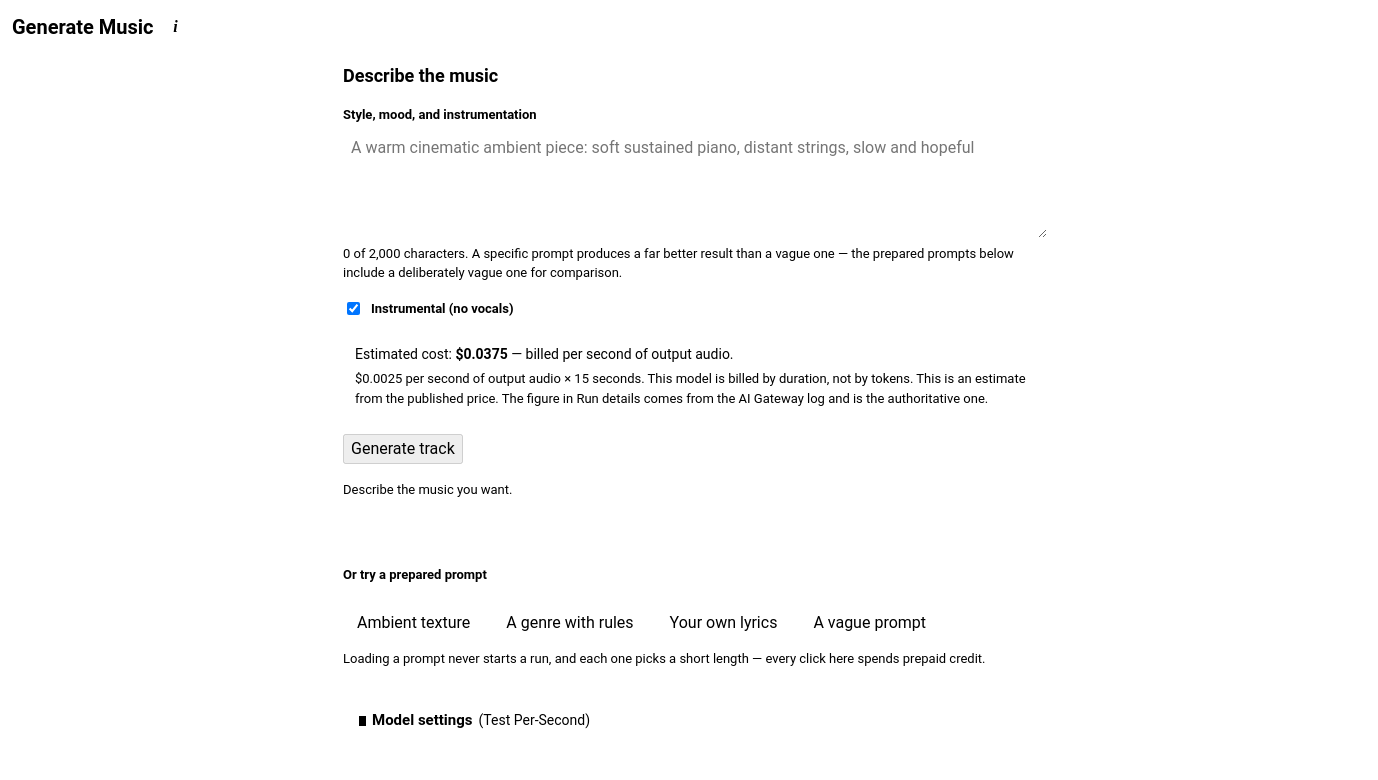
submitting the panel › renders the track, the applied settings, and the expiry note after a run
Step 1. Replace the text in the text box with id "music-prompt" with "ambient piano" → x=695, y=184, box [343,130,1047,238]
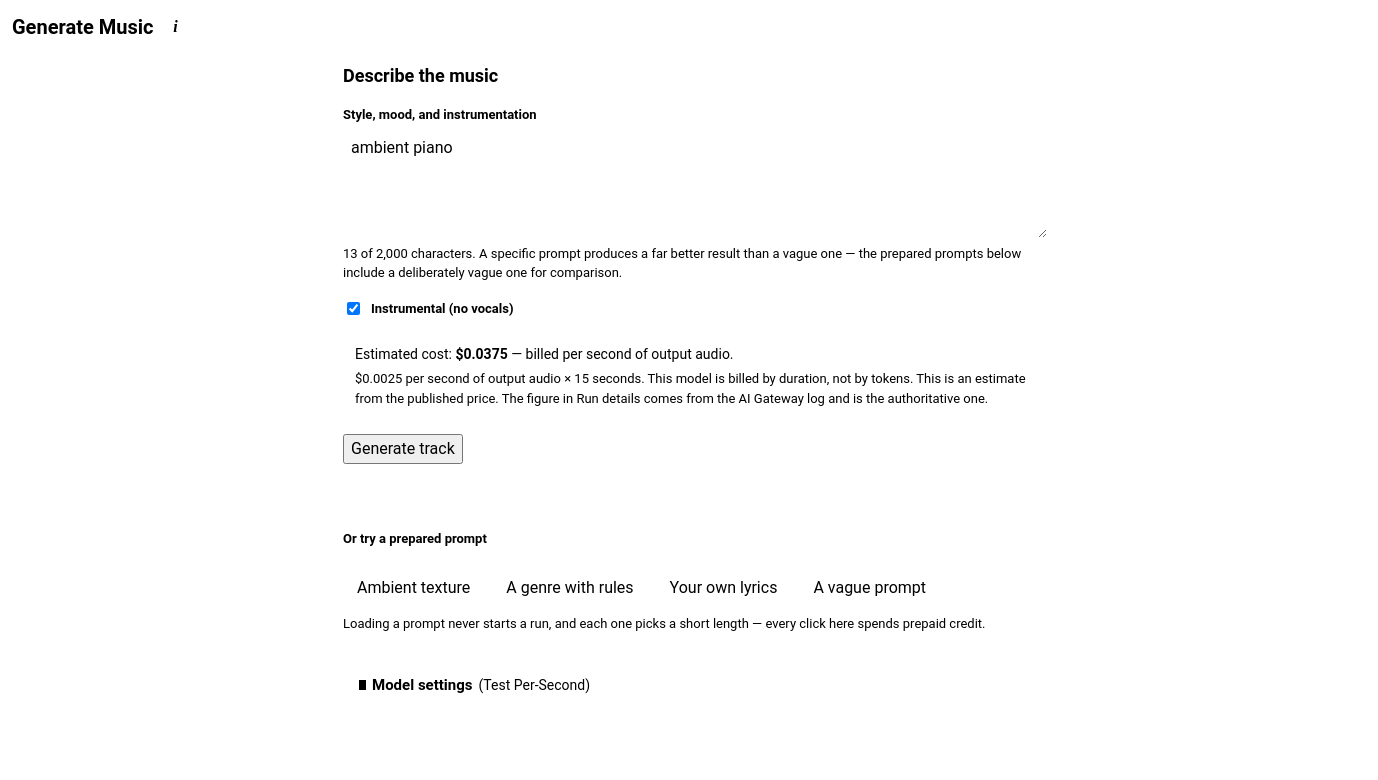
Step 2. Click the button with class "generate-button" → x=403, y=449, box [343,434,463,464]
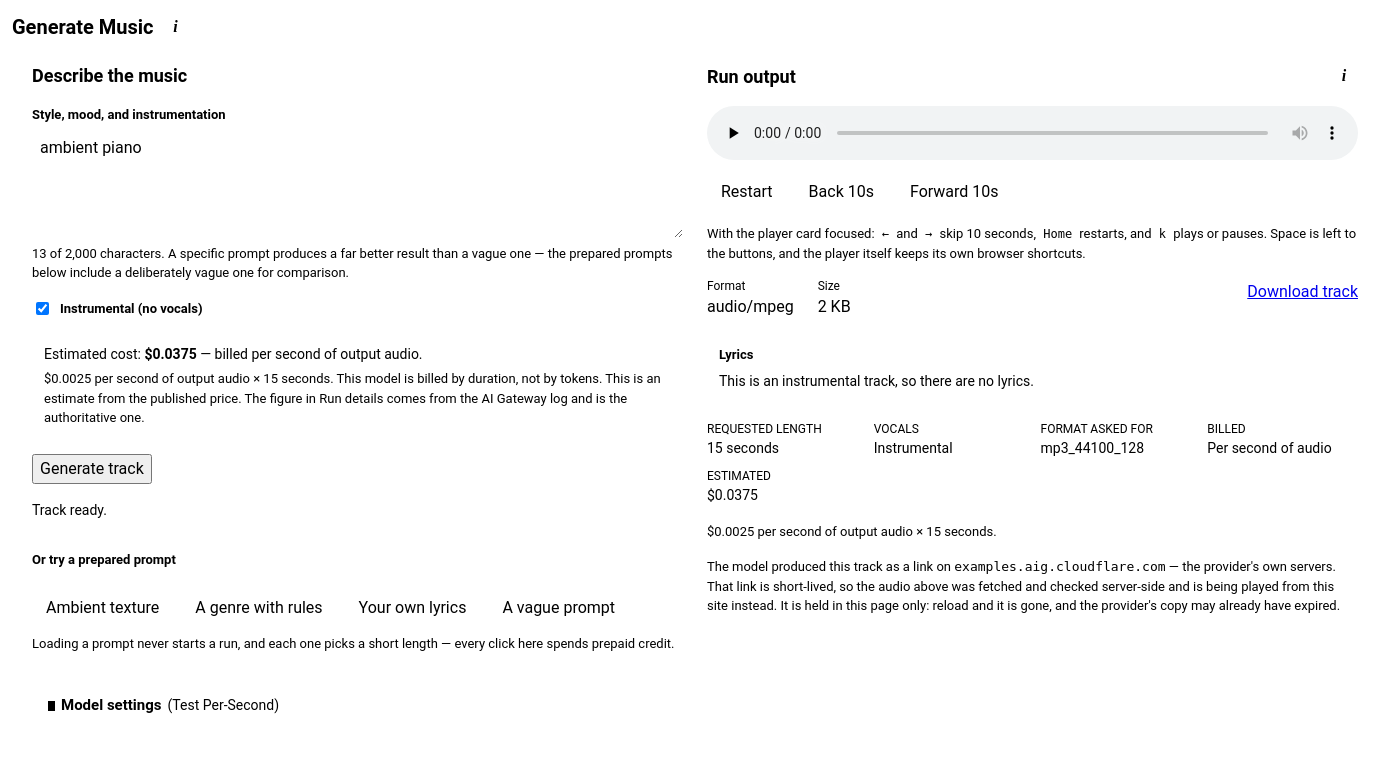
Now the text named "Generated track for: ambient piano" is shown, box [707,106,1358,160]
Now the text "Per second of audio" is shown, box [1207,440,1332,456]
Now the text "examples.aig.cloudflare.com" is shown, box [954,559,1166,574]
